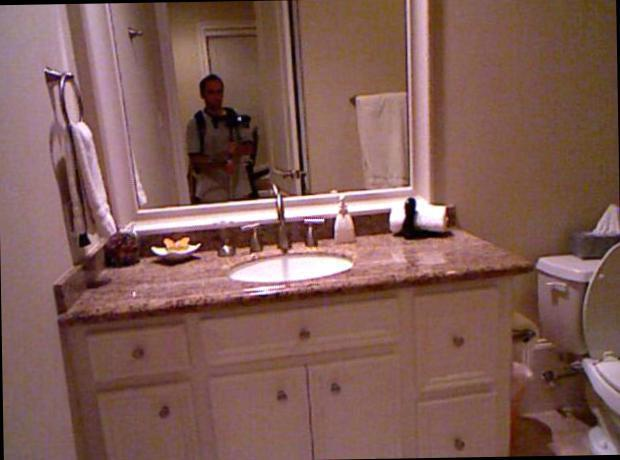Lavamanos: (219, 177, 368, 293)
Sanitario: (529, 249, 620, 452)
